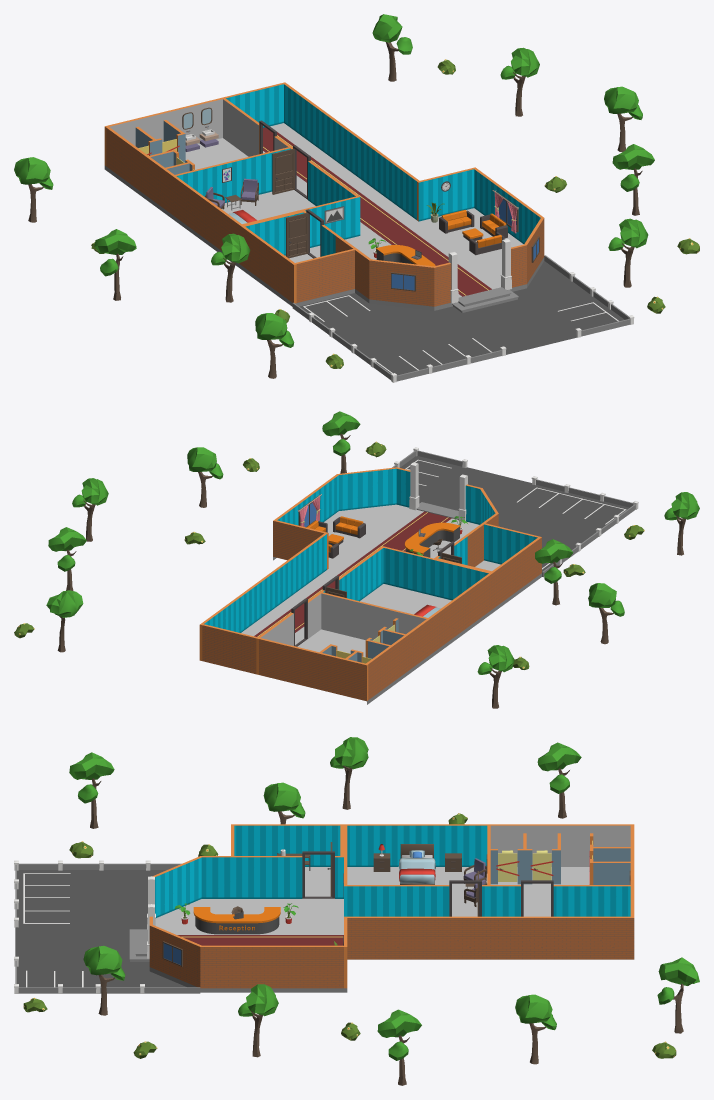
Rendered from Hotel ENV (1).FBX.
3 renders of one model, top to bottom at view 1: azimuth 30°, elevation 25°; view 2: azimuth 150°, elevation 25°; view 3: azimuth 270°, elevation 25°, orthographic. The views are drawn at different scales.
Visible parts, largest first — view 1: Parking, Wall_021, Wall_08, Wall_11, Parking_wall, HotelGate_01, Wall_off_09, Wall_035, Wall_off_03, Wall_025, Wall_046, Wall_off_01 (+45 smaller); view 2: Parking, Wall_05, Wall_040, Wall_off_09, Wall_028, Wall_044, Wall_035, Parking_wall, Wall_021, Wall_024, Wall_11, Floor_roomLvl1_003 (+38 smaller); view 3: Parking, Wall_off_07, Wall_off_05, Wall_06, Wall_off_03, Wall_off_01, Wall_07, Wall_09, Wall_025, Wall_026, Parking_wall, Wall_023 (+35 smaller).
Boxes of the visible parts, x1,y1,x2,y2 form: Parking: (104, 165, 624, 375); Wall_021: (295, 249, 354, 302); Wall_08: (369, 259, 434, 306); Wall_11: (417, 167, 476, 221); Parking_wall: (292, 255, 630, 381); HotelGate_01: (448, 239, 518, 312); Wall_off_09: (224, 83, 283, 127); Wall_035: (301, 196, 360, 247); Wall_off_03: (349, 131, 385, 195); Wall_025: (173, 176, 209, 239); Wall_046: (140, 151, 175, 215); Wall_off_01: (383, 156, 419, 219); Parking: (273, 456, 629, 704); Wall_05: (337, 467, 396, 510); Wall_040: (313, 651, 368, 701); Wall_off_09: (202, 624, 257, 674); Wall_028: (321, 592, 376, 640); Wall_044: (259, 638, 313, 687); Wall_035: (381, 546, 435, 596); Parking_wall: (392, 450, 635, 577); Wall_021: (484, 523, 538, 564); Wall_024: (435, 559, 489, 600); Wall_11: (273, 519, 328, 569); Floor_roomLvl1_003: (360, 584, 435, 613); Parking: (15, 870, 347, 992); Wall_off_07: (562, 916, 634, 959); Wall_off_05: (490, 916, 562, 959); Wall_06: (272, 945, 343, 988); Wall_off_03: (419, 916, 490, 959); Wall_off_01: (347, 916, 418, 959); Wall_07: (200, 945, 271, 988); Wall_09: (200, 856, 271, 898); Wall_025: (415, 824, 487, 866); Wall_026: (344, 824, 415, 866); Parking_wall: (15, 863, 200, 993); Wall_023: (272, 824, 343, 866).
Size of what is drawn, in the model's own units: 4649 by 524 by 4575.
